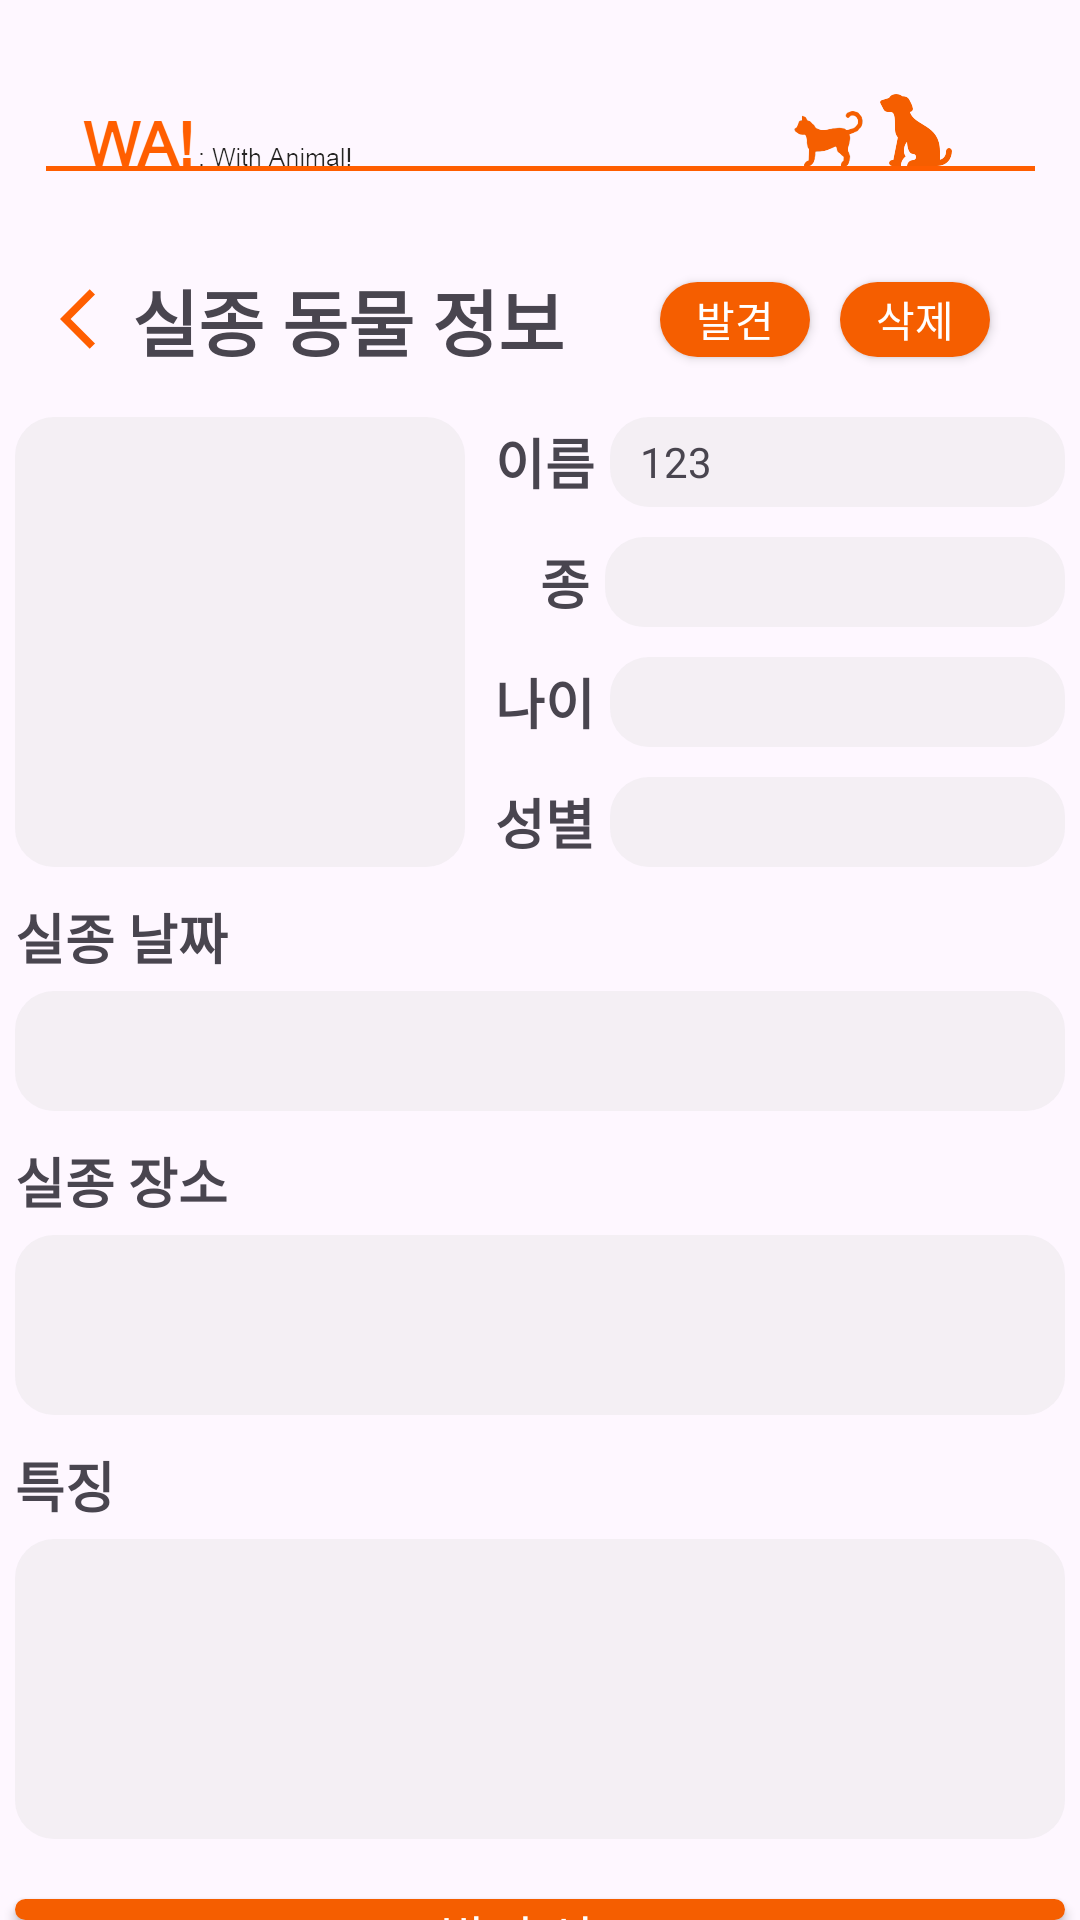

Icons on this 1080x1920 Android screen, each with the point to tap as [x,y]:
arrow back: [77,319]
